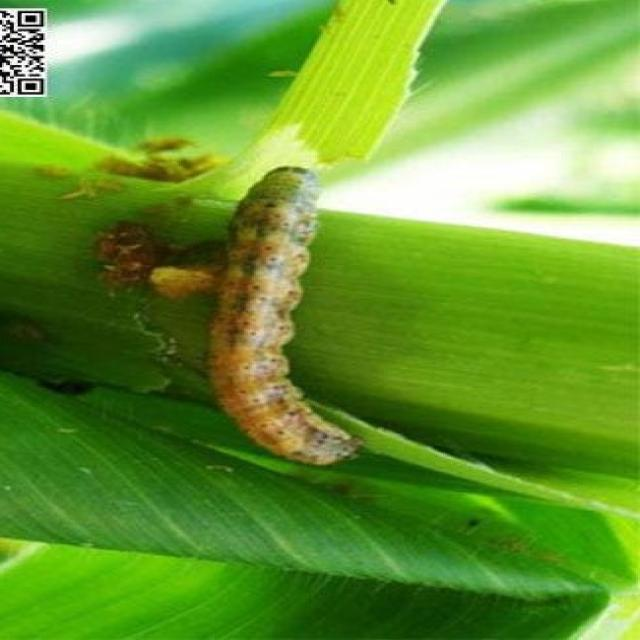army worm: (211, 164, 362, 470)
